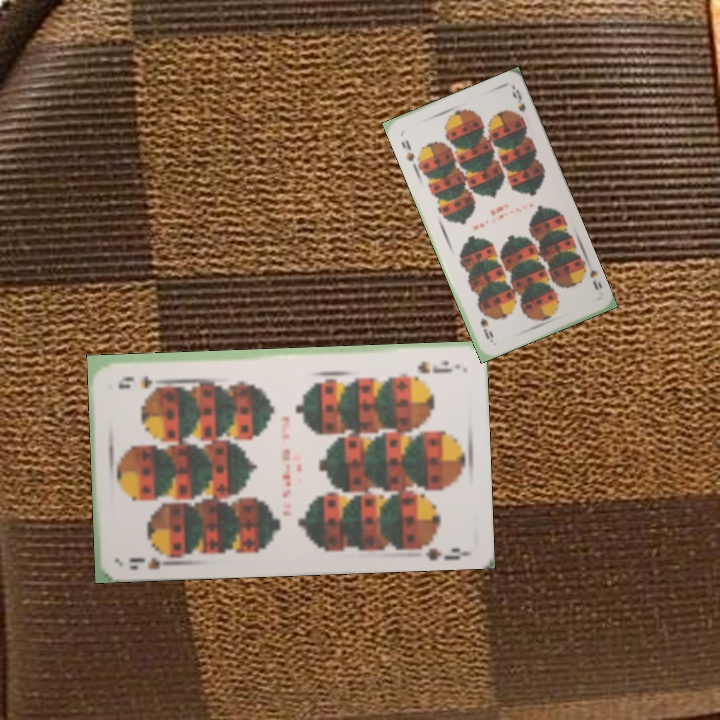S9: (125, 552, 178, 573), (577, 259, 605, 293), (413, 356, 451, 376), (397, 136, 417, 164)
